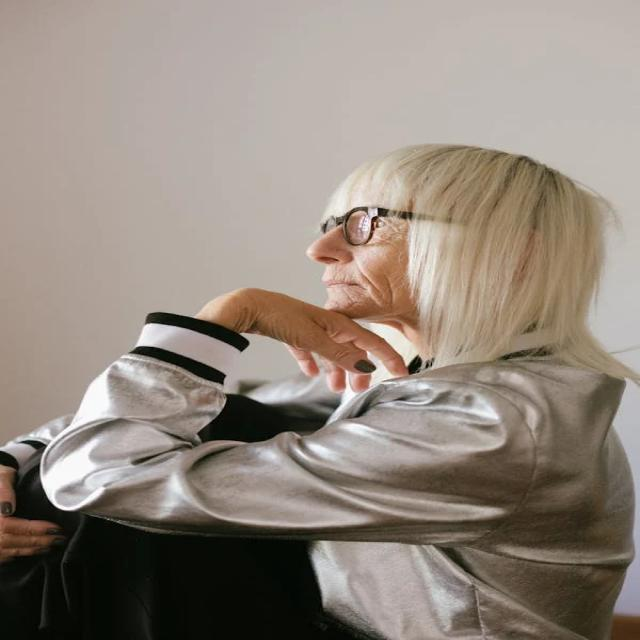Real human 2: (41, 129, 640, 640)
